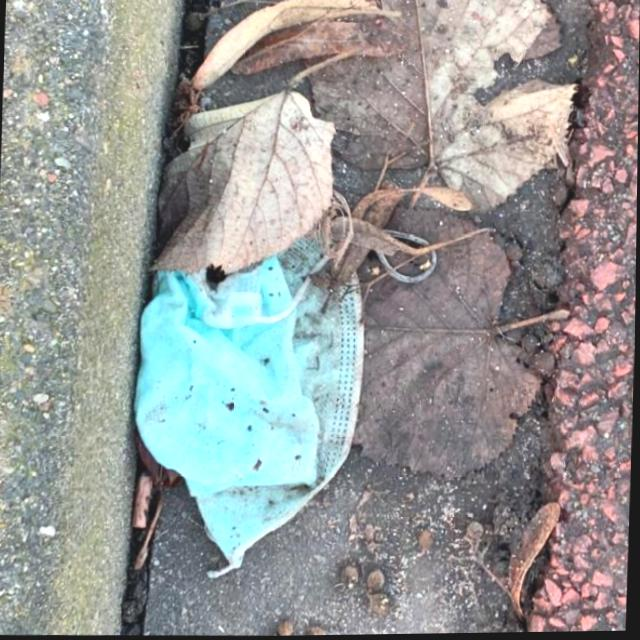Mask: (124, 210, 440, 587)
